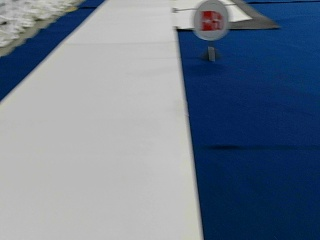battery: (191, 0, 230, 41)
